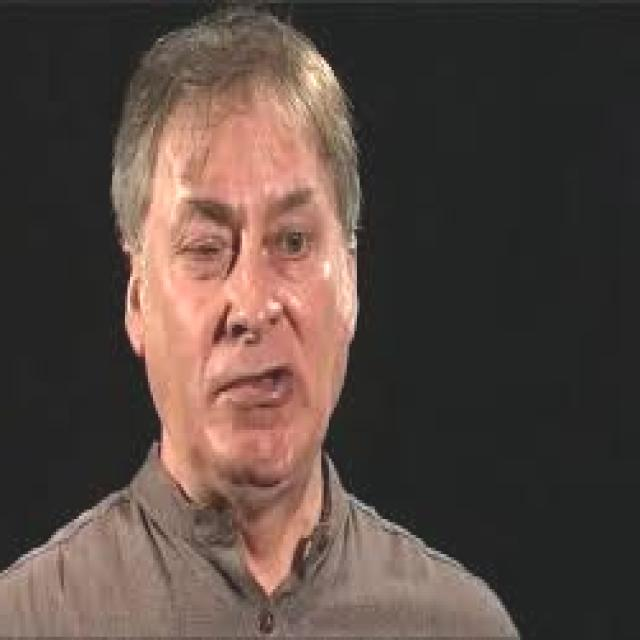stroke_face: (66, 8, 376, 585)
